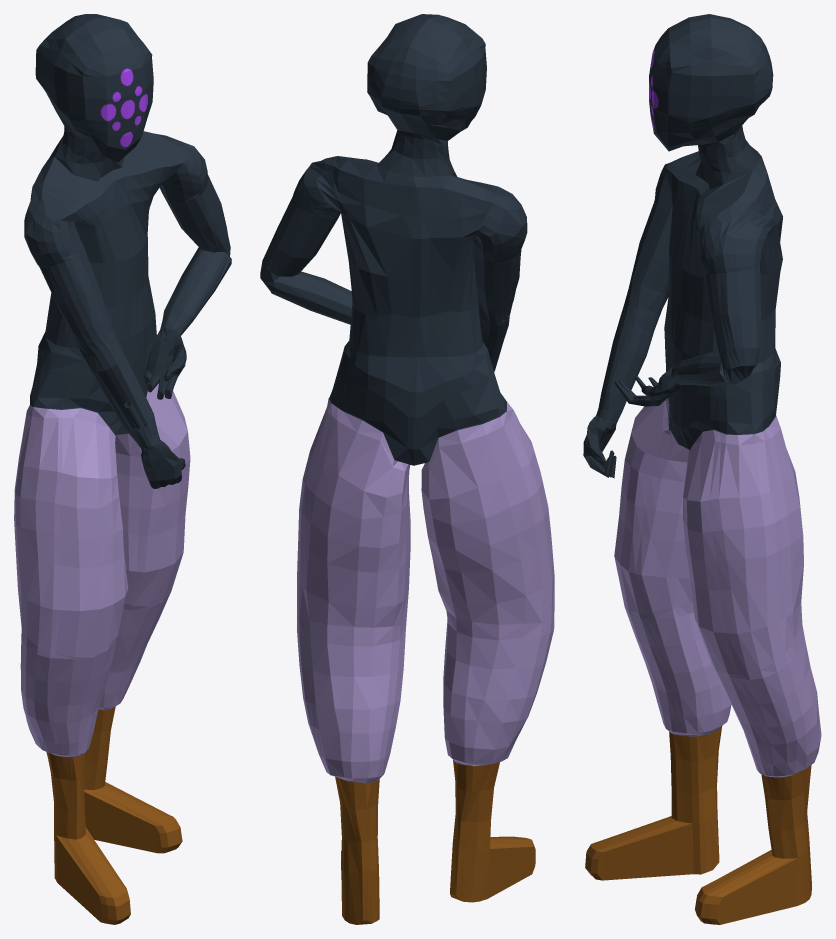
The model's file is Oracle_WL_000027.obj.
3 renders of one model, left to right at view 1: azimuth 30°, elevation 25°; view 2: azimuth 150°, elevation 25°; view 3: azimuth 270°, elevation 25°, orthographic. The views are drawn at different scales.
Visible parts, largest first — view 1: Cube; view 2: Cube; view 3: Cube.
Part boxes in pixels (x1=…): Cube: x1=14, y1=14, x2=231, y2=924; Cube: x1=260, y1=14, x2=554, y2=924; Cube: x1=583, y1=14, x2=821, y2=924.
Size of the model in its own units: 1.16 by 3.94 by 0.9719.
